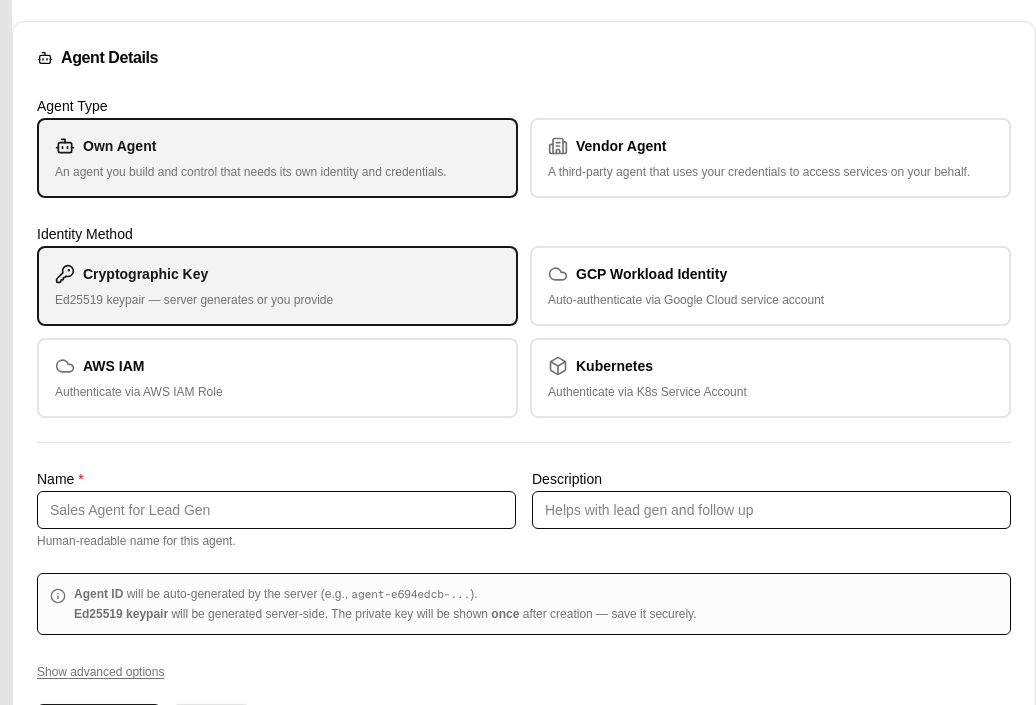
Scenario: AgentCreatePage › IdentityMethodSelector › shows platform info text instead of keypair text when platform method selected
Expected: the text "will be generated server-side" is shown, [168,607,491,621]
Click the text "GCP Workload Identity" at (652, 274), box [576,264,727,284]
(page scrolled)
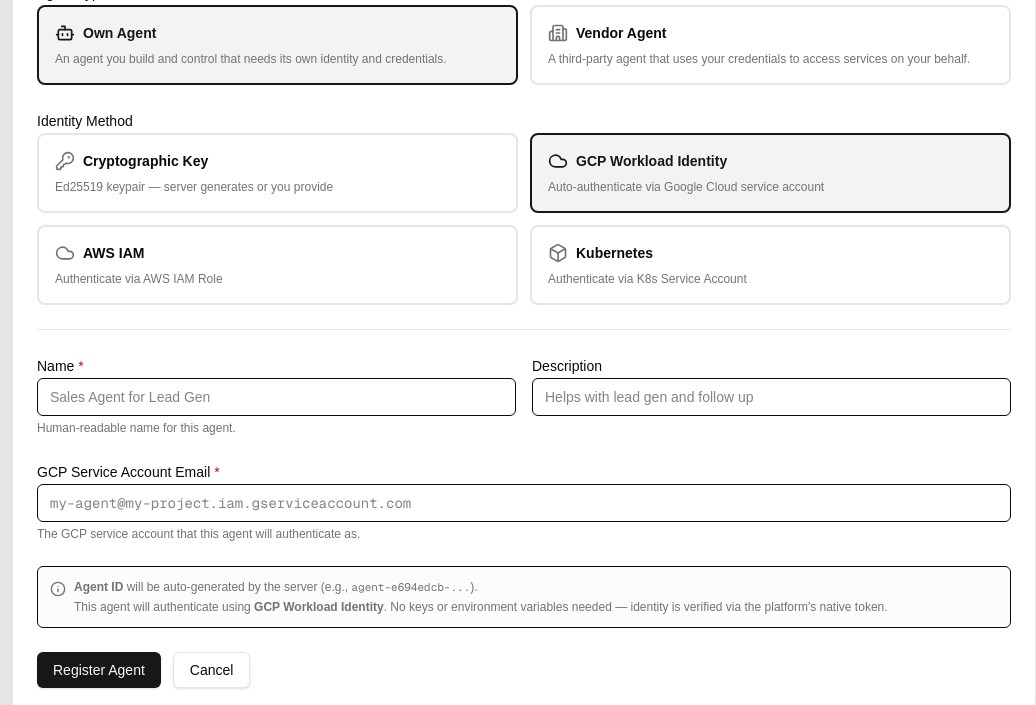
Expected: the text "will be generated server-side" is gone
Expected: the text "platform's native token" is shown, [384,600,888,614]
